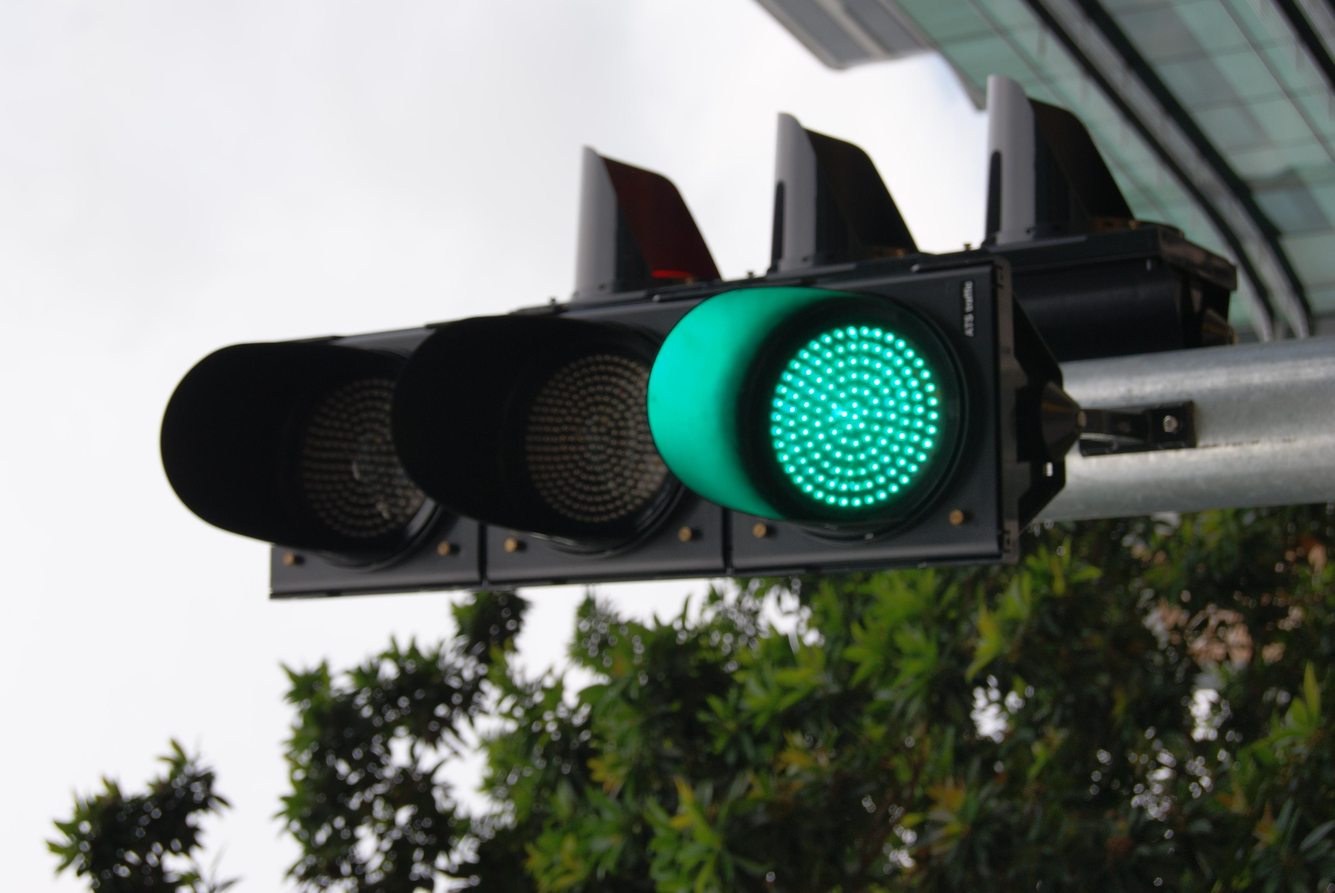Traffic light green: (269, 189, 659, 893)
